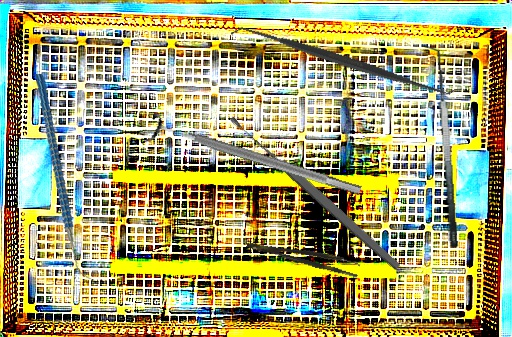Chopper: (8, 73, 120, 280)
Fixation Ring: (144, 110, 366, 208)
Spatula Surgical: (229, 13, 457, 109), (422, 42, 459, 250)
Surgical Spoon: (227, 112, 403, 273)
Tissue Forceps: (245, 232, 362, 279)
